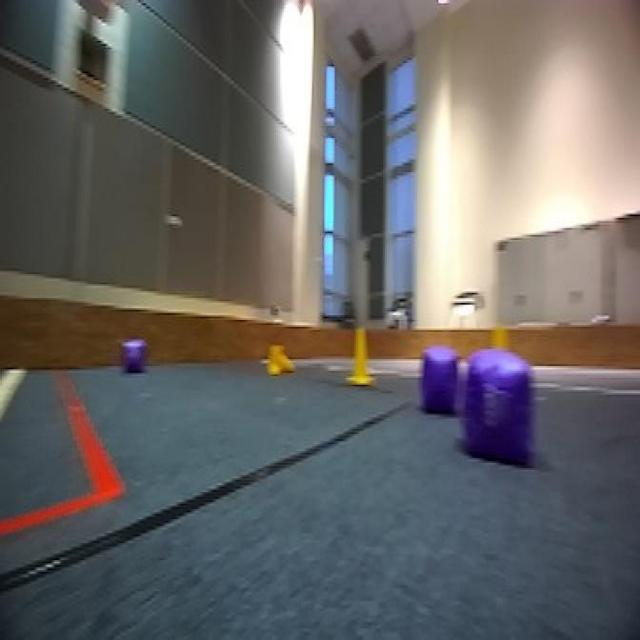frc_cone: (346, 323, 377, 388), (263, 340, 297, 380)
frc_cube: (460, 354, 535, 461), (422, 359, 457, 410), (119, 337, 146, 380)
